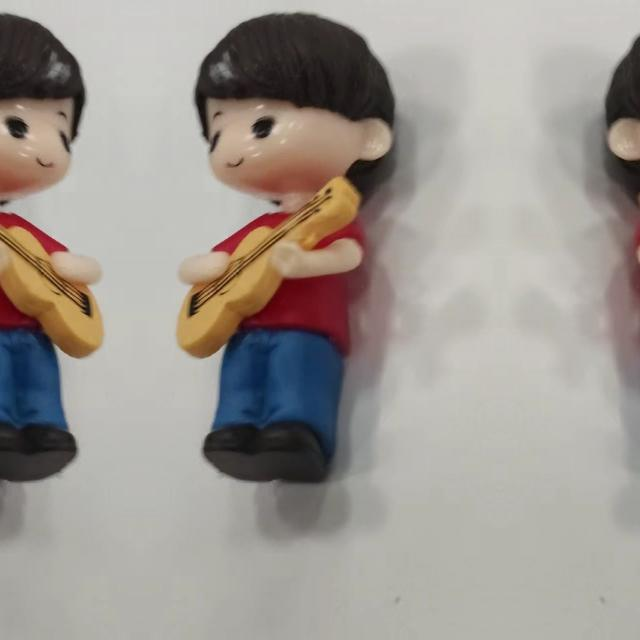man cloth: (202, 204, 384, 356), (0, 204, 78, 356), (616, 204, 640, 356)
man head: (185, 6, 402, 196), (0, 6, 94, 196), (597, 6, 640, 196)
trousers: (187, 333, 347, 481), (0, 333, 93, 481)
